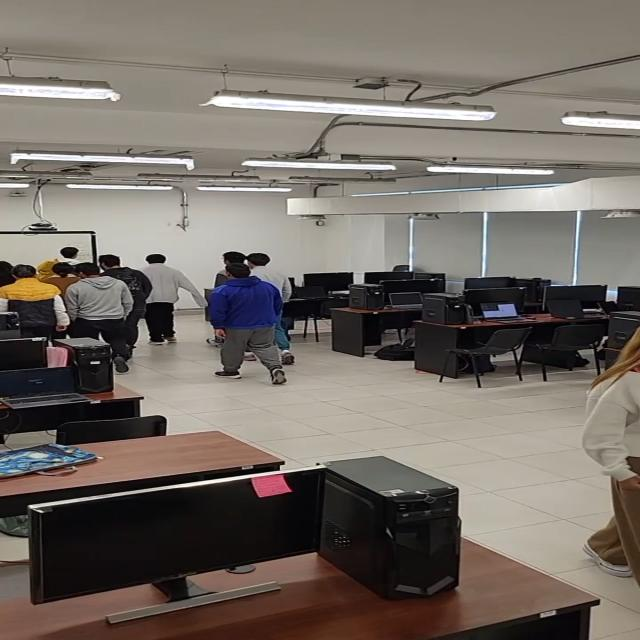Persona: (210, 252, 305, 365), (207, 262, 288, 385), (63, 262, 134, 373), (137, 254, 208, 346), (90, 255, 152, 348), (0, 264, 71, 342), (39, 261, 80, 293), (49, 243, 91, 271)
